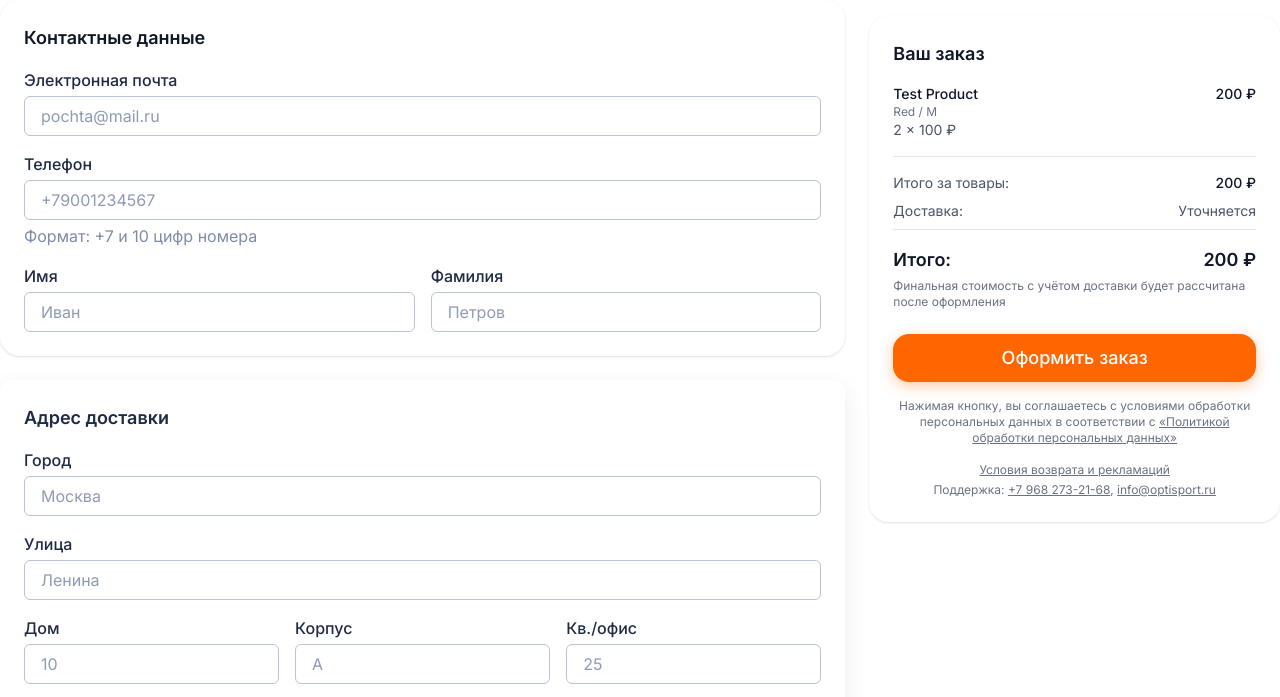
Test: CheckoutForm › Валидация формы › должен показывать ошибки при отправке пустой формы
The image size is (1280, 697).
Click the button "Оформить заказ": [1075, 358] box [893, 334, 1256, 382]
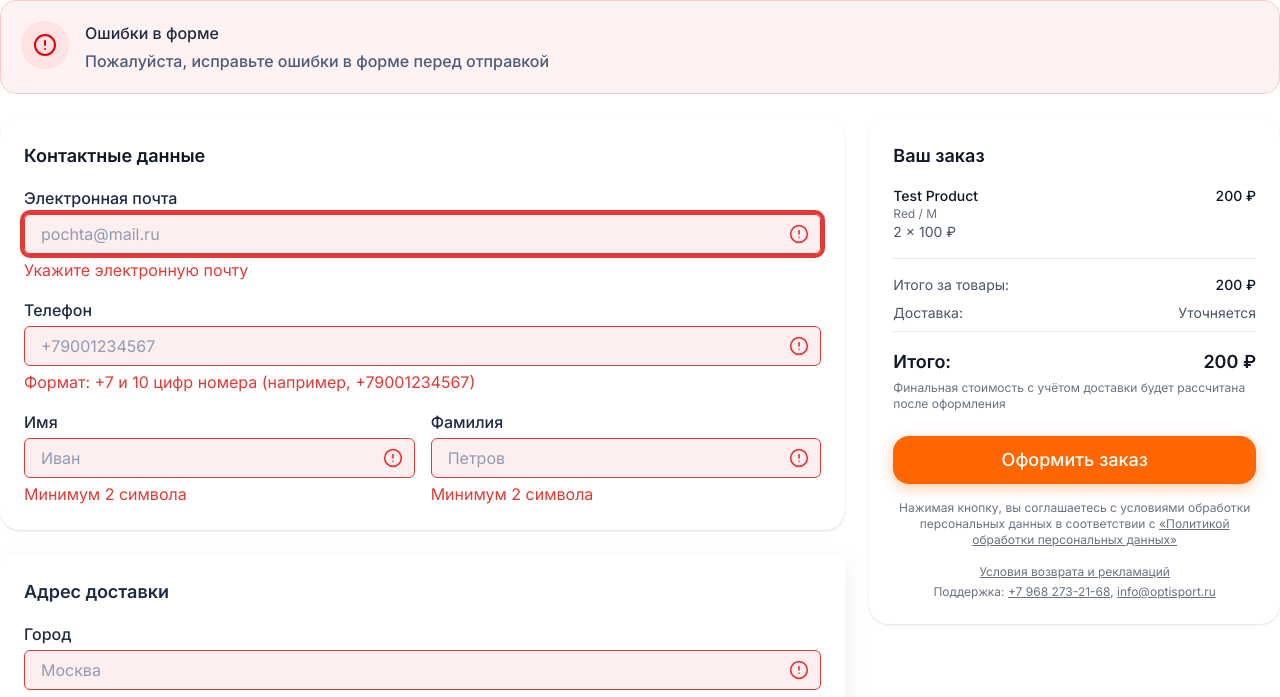
Expected: the text "Укажите электронную почту" is shown, [24, 260, 248, 280]
